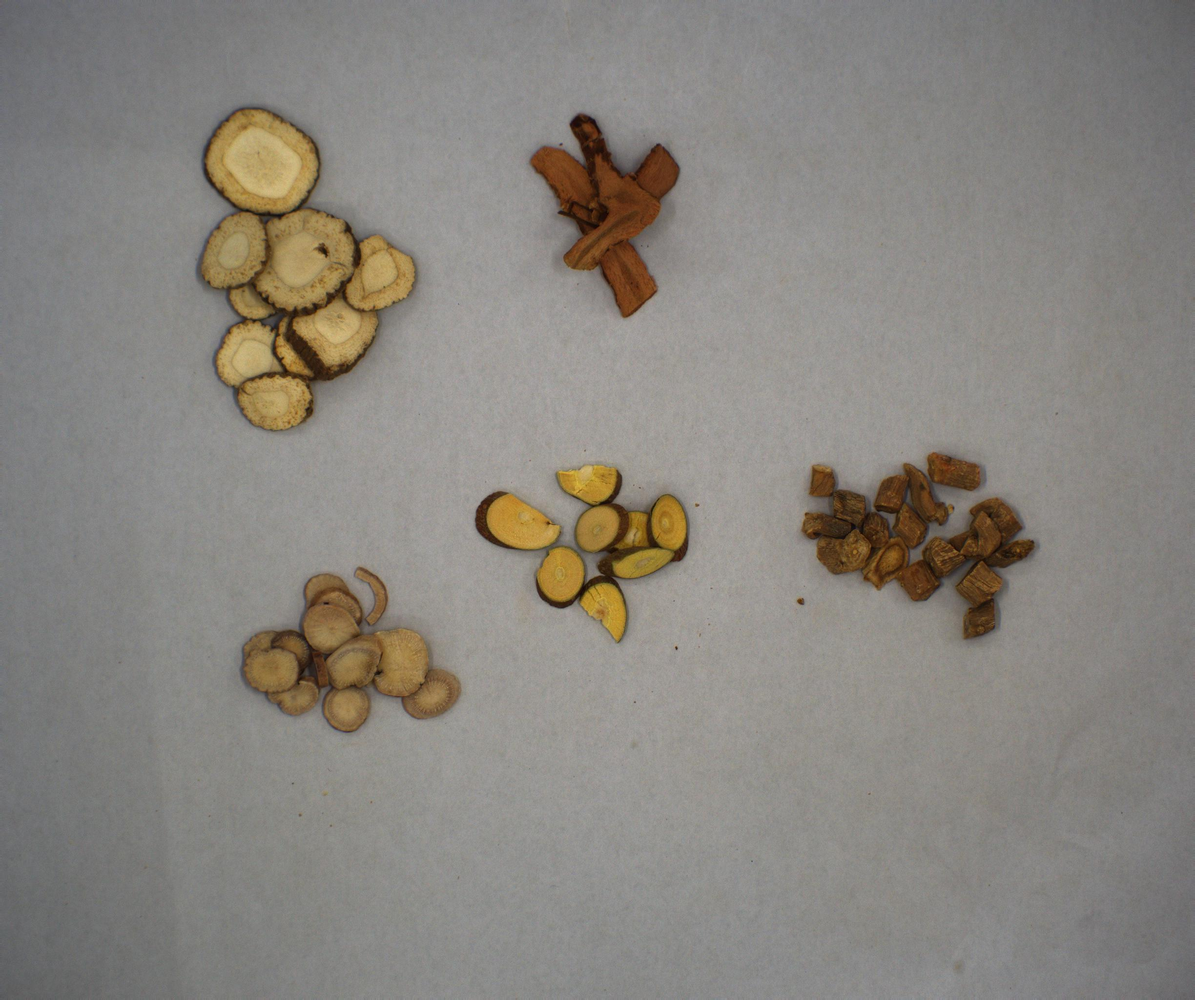baishao: (240, 566, 466, 743)
baizhi: (187, 106, 426, 445)
gaoliangjiang: (532, 112, 712, 322)
niuxi: (799, 454, 1066, 640)
sangzhi: (474, 461, 718, 652)
